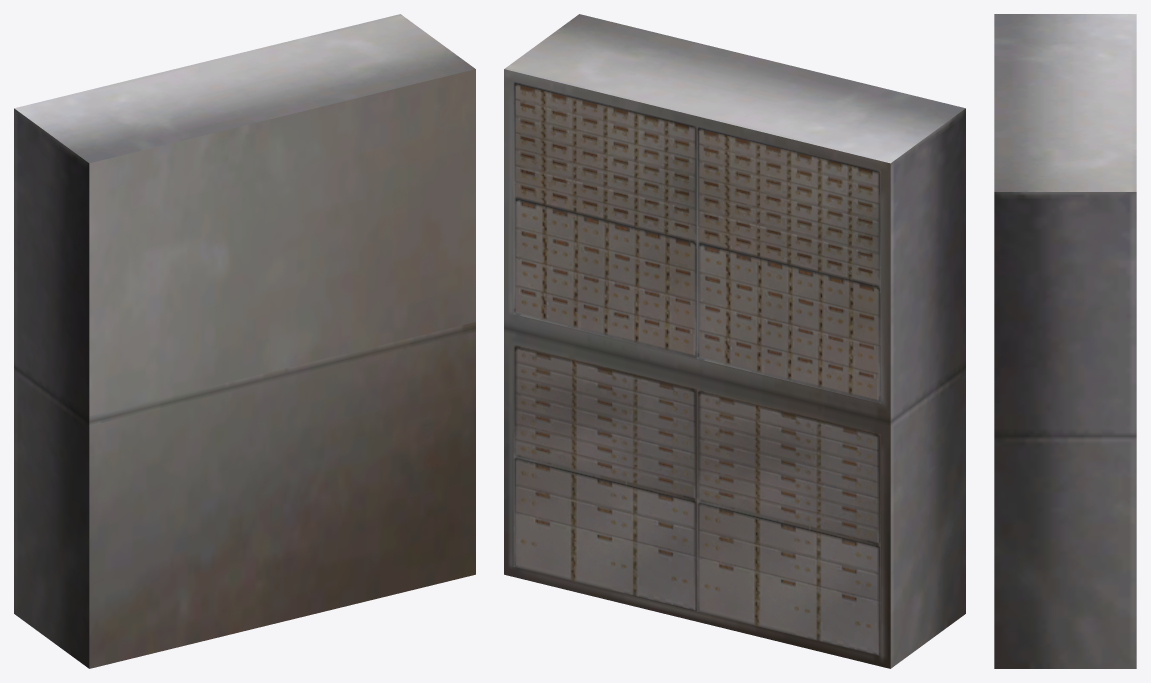
File: safedepositbox.fbx
3 renders of one model, left to right at view 1: azimuth 30°, elevation 25°; view 2: azimuth 150°, elevation 25°; view 3: azimuth 270°, elevation 25°, orthographic. The views are drawn at different scales.
Parts seen in each view (by area): view 1: mesh_0; view 2: mesh_0; view 3: mesh_0.
Part boxes in pixels (x1,y1,x2,y2): mesh_0: [14, 14, 475, 668]; mesh_0: [504, 14, 965, 668]; mesh_0: [994, 14, 1136, 668].
Size of the model in its own units: 280 by 350 by 94.63.
Materials: 1 (1 with a texture image).
